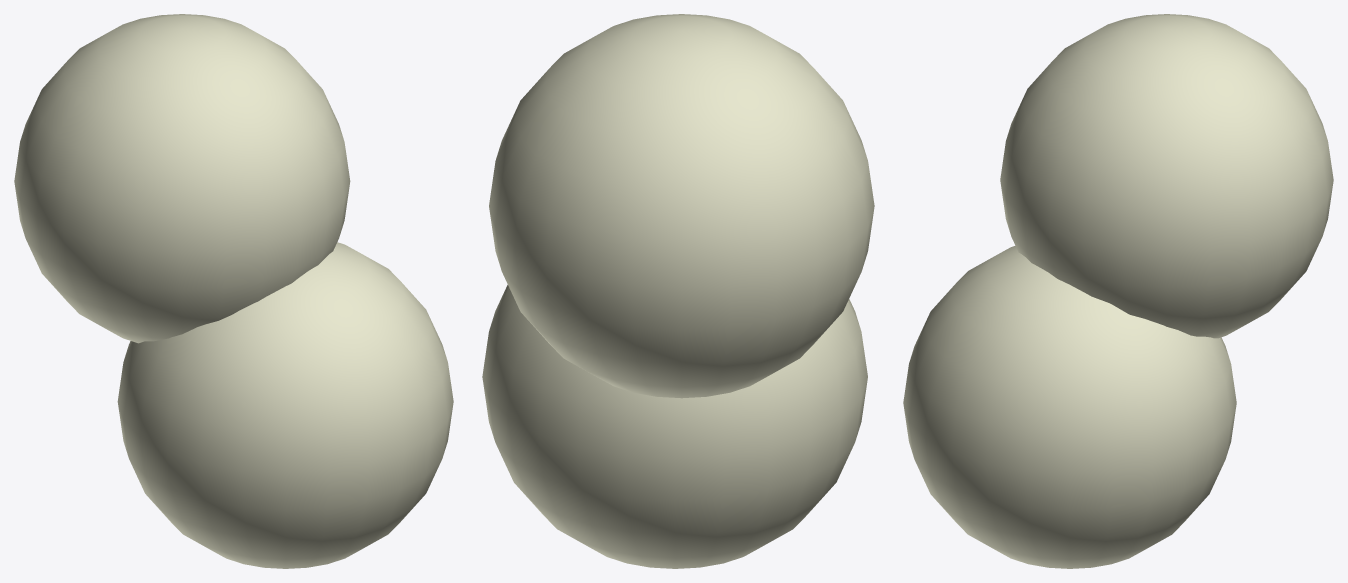
The model's file is two_spheres.dae.
The picture shows the model from 3 angles, left to right: view 1: azimuth 30°, elevation 25°; view 2: azimuth 150°, elevation 25°; view 3: azimuth 270°, elevation 25°; orthographic projection. The views are drawn at different scales.
Visible parts, largest first — view 1: SketchUp (×2); view 2: SketchUp (×2); view 3: SketchUp (×2).
Part boxes in pixels (<box>): SketchUp (×2): <box>14,14,453,568</box>; SketchUp (×2): <box>482,14,874,568</box>; SketchUp (×2): <box>903,14,1333,568</box>.
Bounding box in the file's own units: 51.43 × 55.89 × 71.44.
